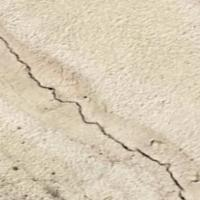crack: (0, 25, 195, 199)
